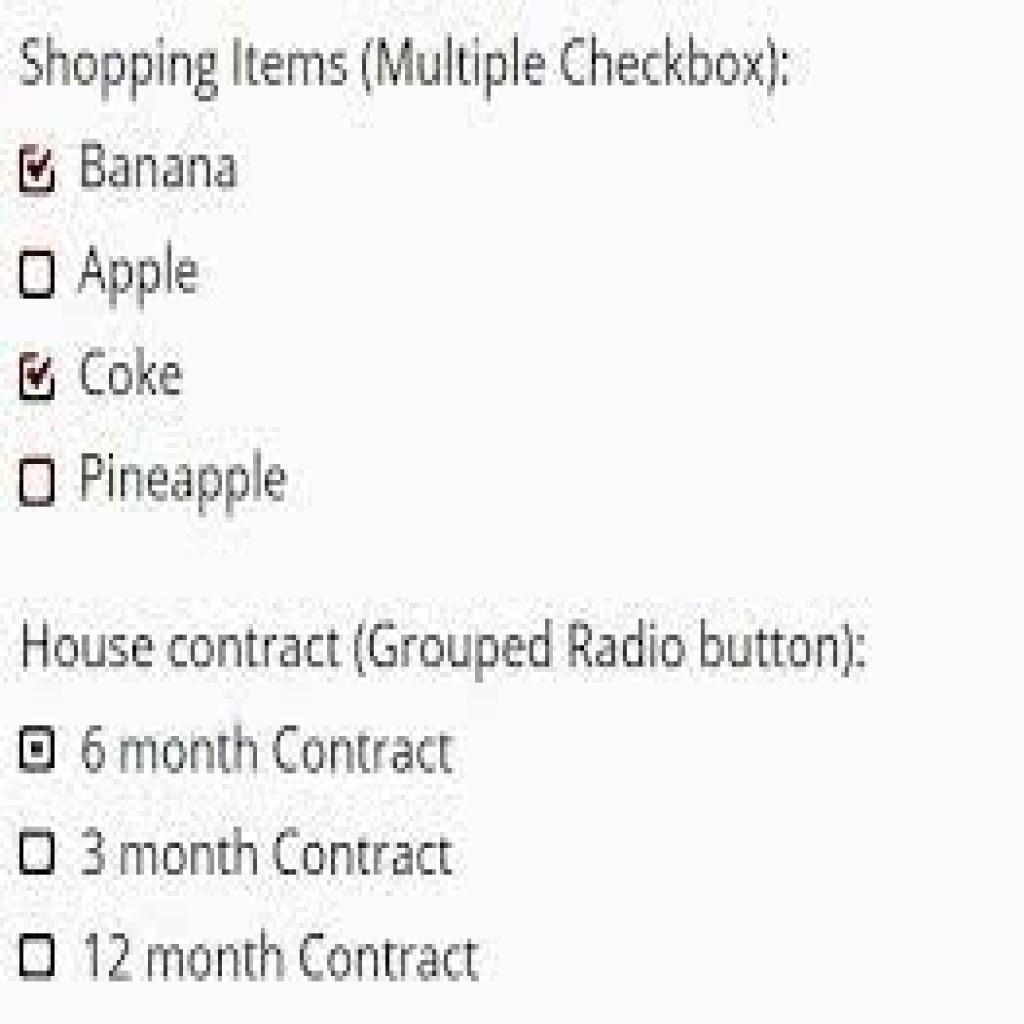checkbox: (14, 143, 63, 200), (14, 351, 59, 413), (14, 245, 61, 304), (15, 453, 59, 513)
label: (17, 22, 795, 110), (23, 613, 881, 688), (79, 817, 470, 892), (85, 926, 498, 995), (75, 721, 458, 792), (84, 445, 297, 515), (79, 135, 243, 197), (76, 241, 201, 306), (81, 343, 190, 407)
radio: (15, 717, 62, 775), (19, 824, 61, 883), (16, 931, 61, 986)
